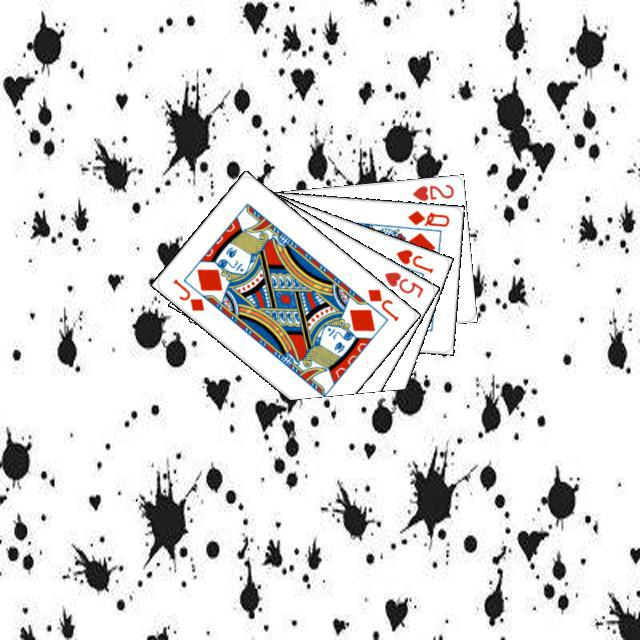2h: (408, 179, 456, 203)
5h: (379, 266, 425, 299)
Jd: (168, 273, 206, 313), (362, 284, 400, 323)
Jh: (391, 244, 435, 275)
Qd: (403, 206, 451, 228)
